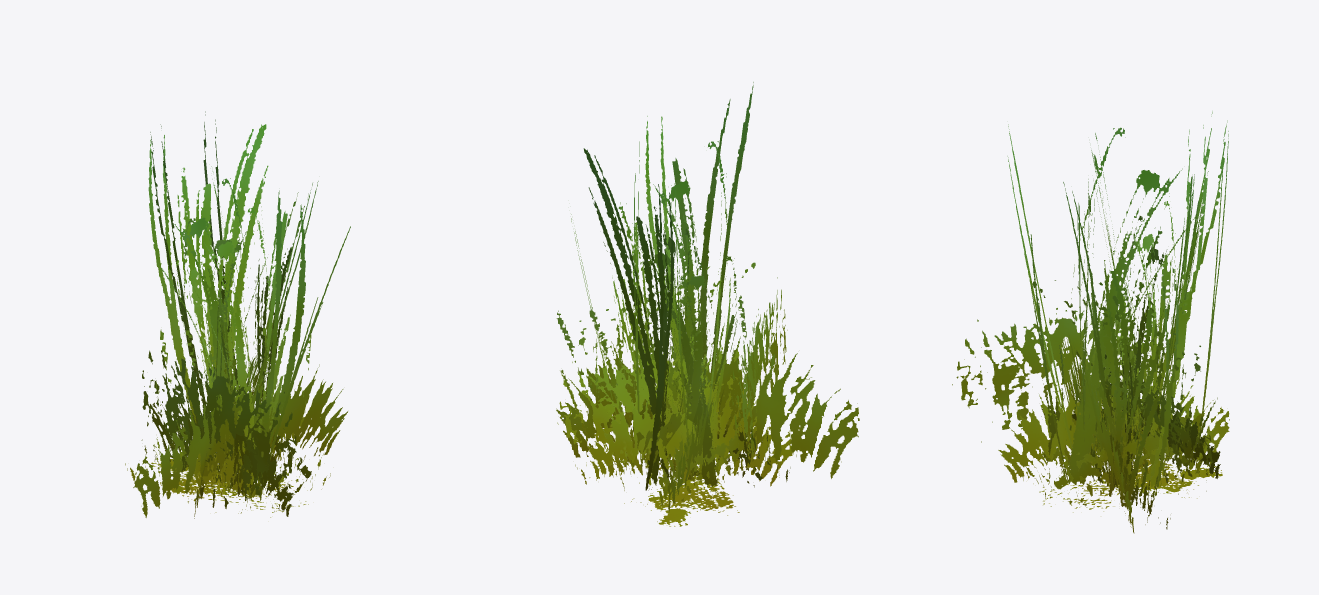
File: grass40.fbx
The picture shows the model from 3 angles, left to right: view 1: azimuth 30°, elevation 25°; view 2: azimuth 150°, elevation 25°; view 3: azimuth 270°, elevation 25°; orthographic projection. The views are drawn at different scales.
Parts seen in each view (by area): view 1: grass7_BAKED; view 2: grass7_BAKED; view 3: grass7_BAKED.
Part boxes in pixels (x1=…): grass7_BAKED: x1=125, y1=111, x2=350, y2=518; grass7_BAKED: x1=556, y1=82, x2=859, y2=526; grass7_BAKED: x1=952, y1=111, x2=1229, y2=533.
Size of the model in its own units: 40.46 by 40.52 by 61.39.
